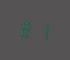eight: (19, 18, 33, 39)
one: (34, 19, 48, 41)
